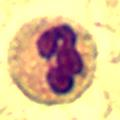neutrophil: (5, 16, 100, 103)
